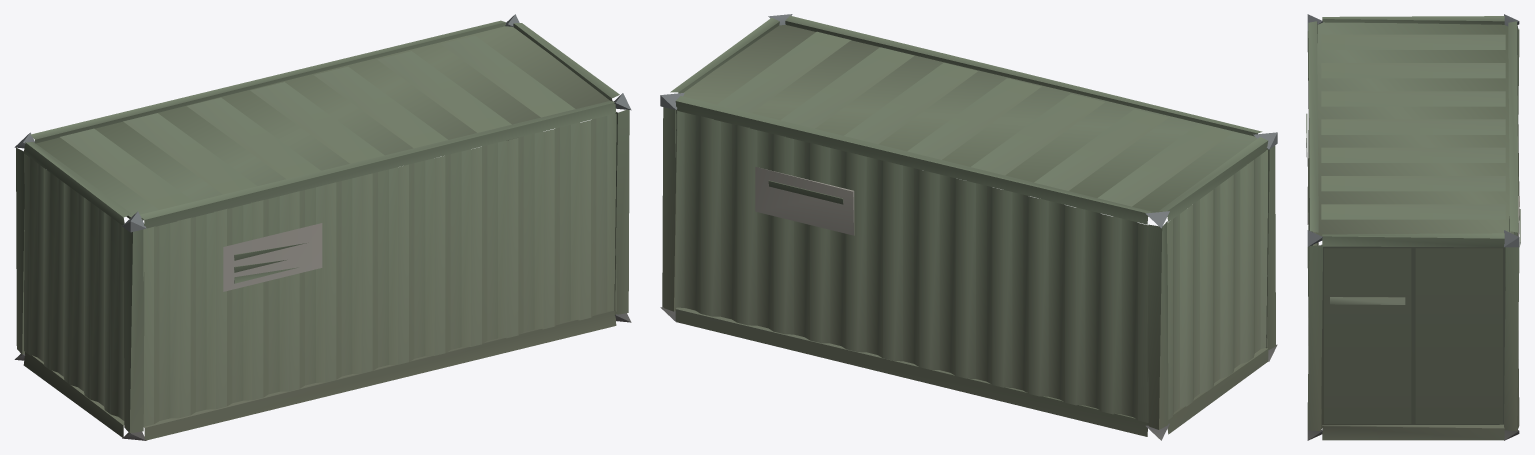
File: box_green.lod1.glb
3 renders of one model, left to right at view 1: azimuth 30°, elevation 25°; view 2: azimuth 150°, elevation 25°; view 3: azimuth 270°, elevation 25°, orthographic. The views are drawn at different scales.
Size of the model in its own units: 6.08 by 2.59 by 2.47.
